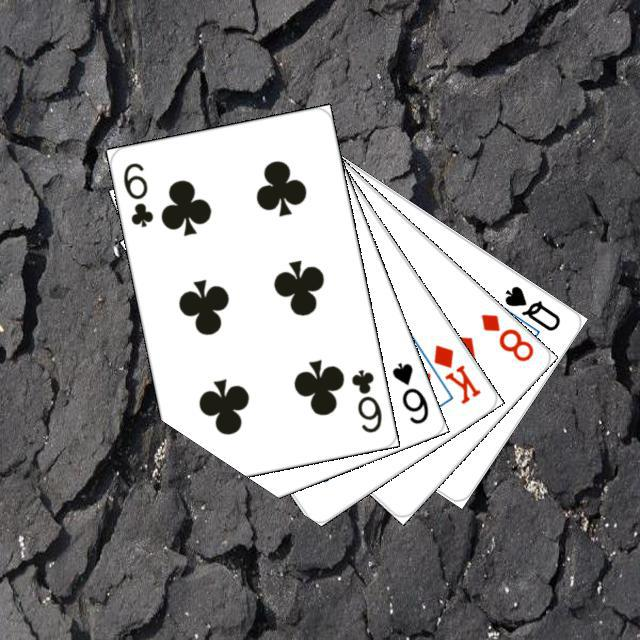6c: (346, 364, 384, 435), (118, 157, 155, 229)
6s: (387, 357, 431, 426)
8d: (475, 308, 536, 364)
Kd: (428, 339, 483, 406)
Qs: (499, 280, 563, 333)
